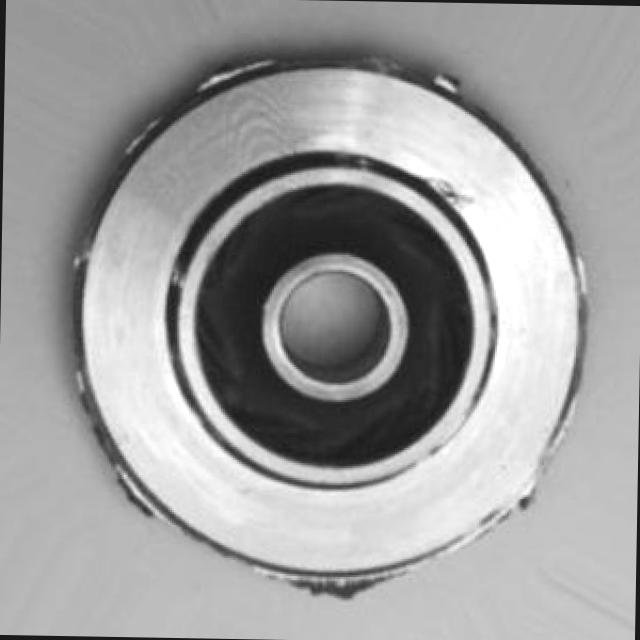Defect: (426, 167, 467, 202)
